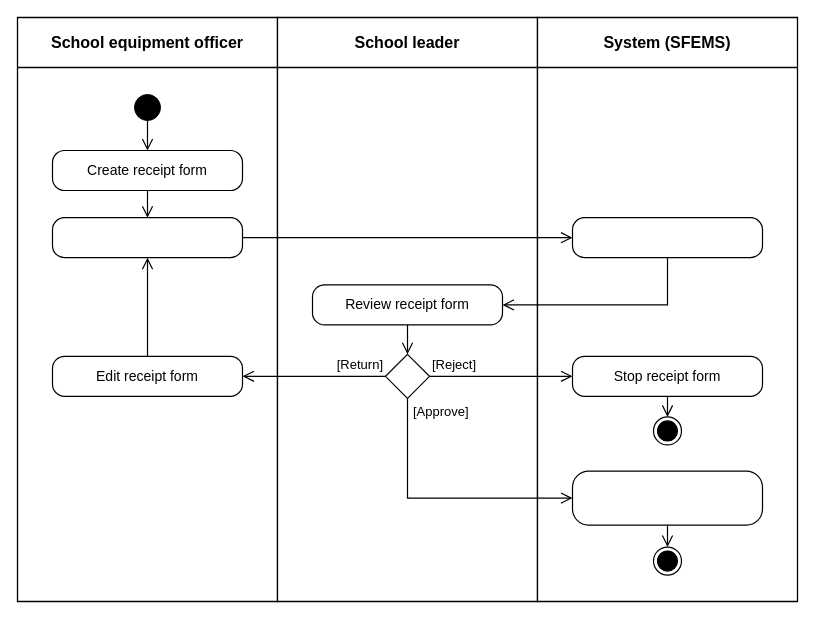
This 816x620 diagram has some shape labels left out. The centre of each missing label's shape, as x and y in pixels:
"Assign number, set Pending approval" belongs at (667,237).
"Register the asset, assign asset code" belongs at (667,497).
"Submit receipt form" belongs at (147,237).
